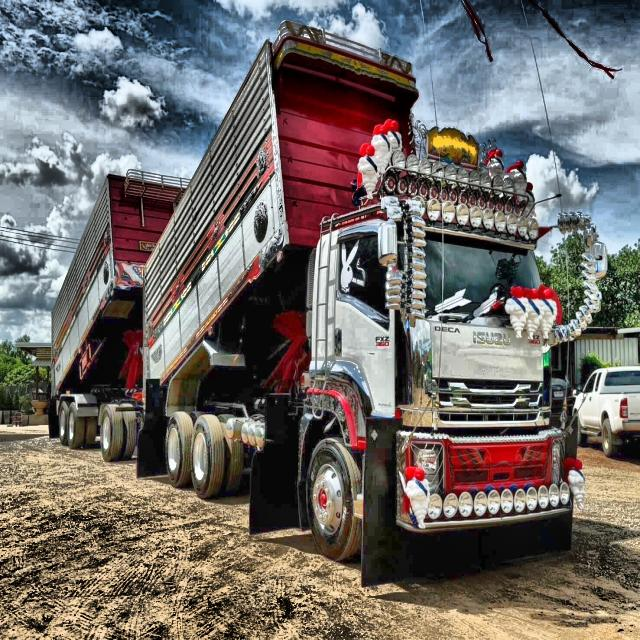trailer: (52, 26, 576, 565)
